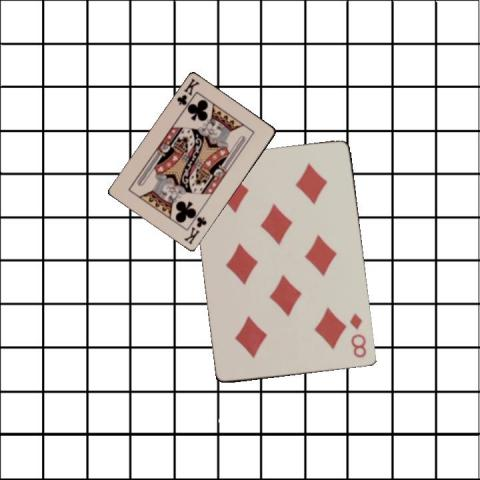8d: (347, 310, 368, 359)
Kc: (181, 214, 208, 246), (174, 76, 201, 107)
